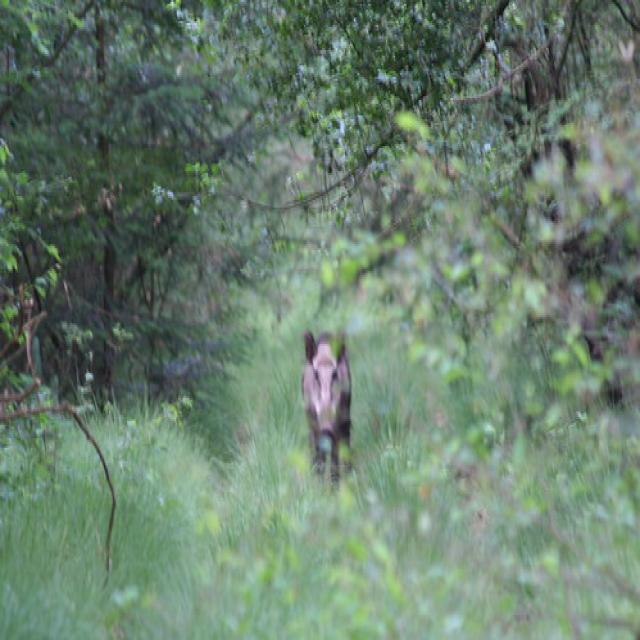boar: (282, 311, 368, 505)
